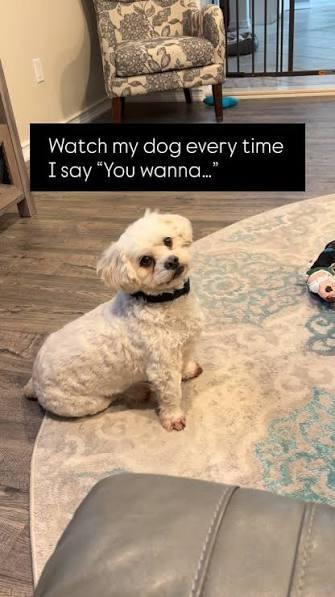adult_dog: (22, 209, 204, 432)
